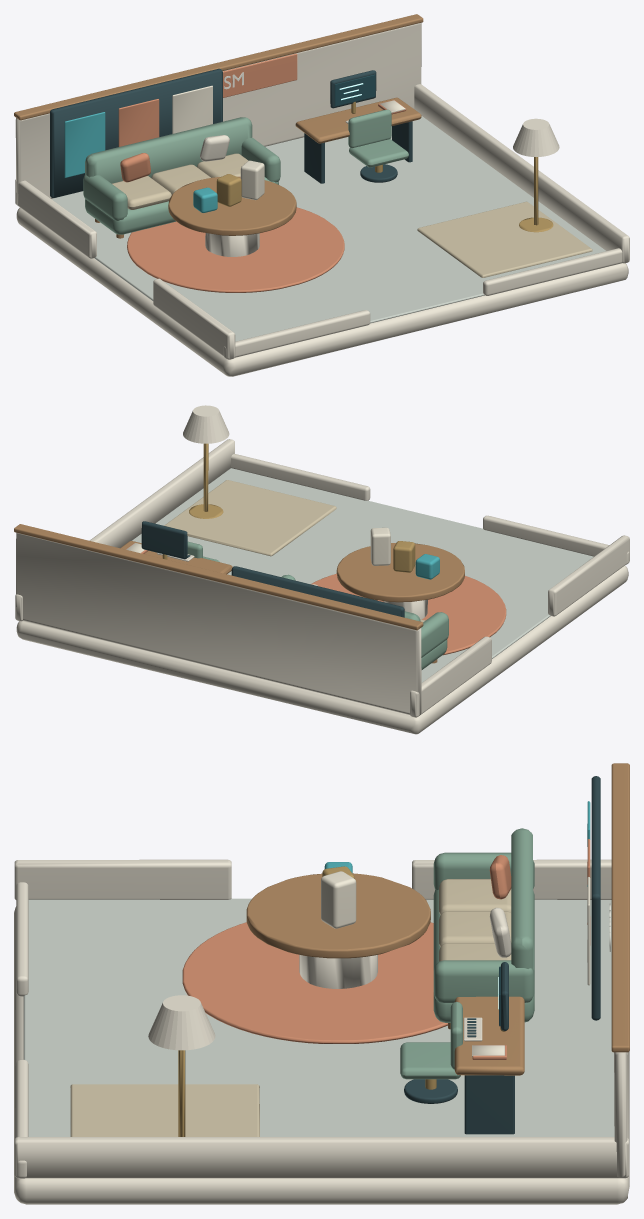
Rendered from prism.glb.
3 renders of one model, top to bottom at view 1: azimuth 30°, elevation 25°; view 2: azimuth 150°, elevation 25°; view 3: azimuth 270°, elevation 25°, orthographic. The views are drawn at different scales.
Parts seen in each view (by area): view 1: Prism / inset floor.001, Prism / back wall.001, Prism / foundation.001, Prism / circular zone.001, Prism / sleep bay.001, Prism / side knee wall.005, Prism / presentation panel.001, Prism / circular review table.001, Prism / review banquette / back.001, Prism / back cap.001, Prism / side knee wall.003, Prism / side knee wall.004 (+26 smaller); view 2: Prism / back wall.001, Prism / inset floor.001, Prism / foundation.001, Prism / sleep bay.001, Prism / circular review table.001, Prism / back cap.001, Prism / side knee wall.005, Prism / circular zone.001, Prism / side knee wall.003, Prism / side knee wall.004, Prism / entrance curb.003, Prism / entrance curb.002 (+8 smaller); view 3: Prism / inset floor.001, Prism / side knee wall.005, Prism / circular zone.001, Prism / foundation.001, Prism / circular review table.001, Prism / sleep bay.001, Prism / side knee wall.003, Prism / back cap.001, Prism / desk B / top.001, Prism / side knee wall.004, Prism / review banquette / arm.003, Prism / desk B / trestle.003 (+19 smaller).
Boxes of the visible parts, x1=… form: Prism / inset floor.001: x1=51, y1=116, x2=605, y2=341; Prism / back wall.001: x1=15, y1=22, x2=421, y2=205; Prism / foundation.001: x1=16, y1=207, x2=628, y2=376; Prism / circular zone.001: x1=127, y1=207, x2=344, y2=292; Prism / sleep bay.001: x1=417, y1=201, x2=592, y2=277; Prism / side knee wall.005: x1=414, y1=84, x2=629, y2=263; Prism / presentation panel.001: x1=50, y1=68, x2=222, y2=197; Prism / circular review table.001: x1=168, y1=176, x2=296, y2=235; Prism / review banquette / back.001: x1=85, y1=117, x2=252, y2=183; Prism / back cap.001: x1=14, y1=14, x2=423, y2=120; Prism / side knee wall.003: x1=153, y1=278, x2=235, y2=359; Prism / side knee wall.004: x1=15, y1=179, x2=96, y2=258; Prism / back wall.001: x1=16, y1=532, x2=421, y2=715; Prism / inset floor.001: x1=132, y1=468, x2=593, y2=682; Prism / foundation.001: x1=16, y1=565, x2=628, y2=734; Prism / sleep bay.001: x1=164, y1=480, x2=336, y2=556; Prism / circular review table.001: x1=336, y1=543, x2=464, y2=602; Prism / back cap.001: x1=14, y1=524, x2=423, y2=630; Prism / side knee wall.005: x1=15, y1=439, x2=234, y2=621; Prism / circular zone.001: x1=311, y1=573, x2=506, y2=655; Prism / side knee wall.003: x1=548, y1=535, x2=629, y2=616; Prism / side knee wall.004: x1=410, y1=636, x2=491, y2=717; Prism / entrance curb.003: x1=231, y1=453, x2=370, y2=500; Prism / entrance curb.002: x1=483, y1=515, x2=629, y2=564; Prism / inset floor.001: x1=23, y1=898, x2=614, y2=1136; Prism / side knee wall.005: x1=14, y1=1137, x2=628, y2=1178; Prism / circular zone.001: x1=182, y1=922, x2=447, y2=1043; Prism / foundation.001: x1=14, y1=906, x2=629, y2=1204; Prism / circular review table.001: x1=246, y1=873, x2=430, y2=958; Prism / sleep bay.001: x1=70, y1=1084, x2=259, y2=1136; Prism / side knee wall.003: x1=14, y1=859, x2=231, y2=899; Prism / back cap.001: x1=611, y1=763, x2=629, y2=1052; Prism / desk B / top.001: x1=454, y1=996, x2=524, y2=1075; Prism / side knee wall.004: x1=412, y1=859, x2=611, y2=899; Prism / review banquette / arm.003: x1=433, y1=960, x2=534, y2=1002; Prism / desk B / trestle.003: x1=464, y1=1075, x2=514, y2=1134.
Bounding box in the file's own units: 12 × 3.54 × 11.01.
